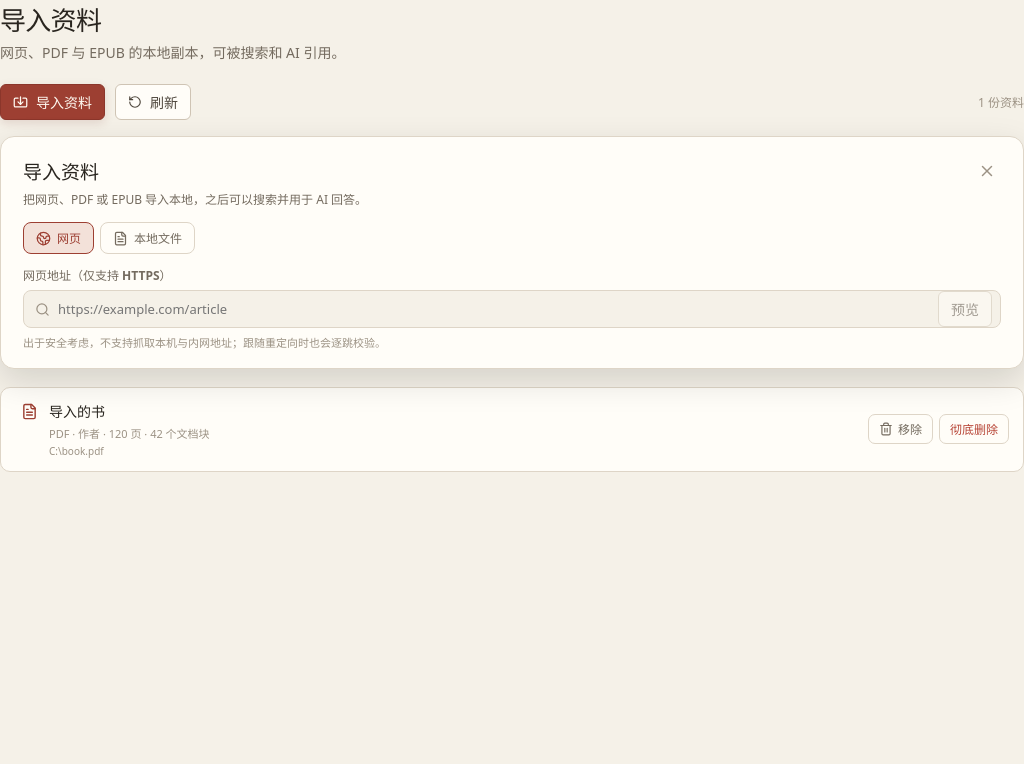
Scenario: LibrarySources › 中文与空格路径原样传给后端
Click the button "导入资料" at (52, 102), box [0, 84, 105, 120]
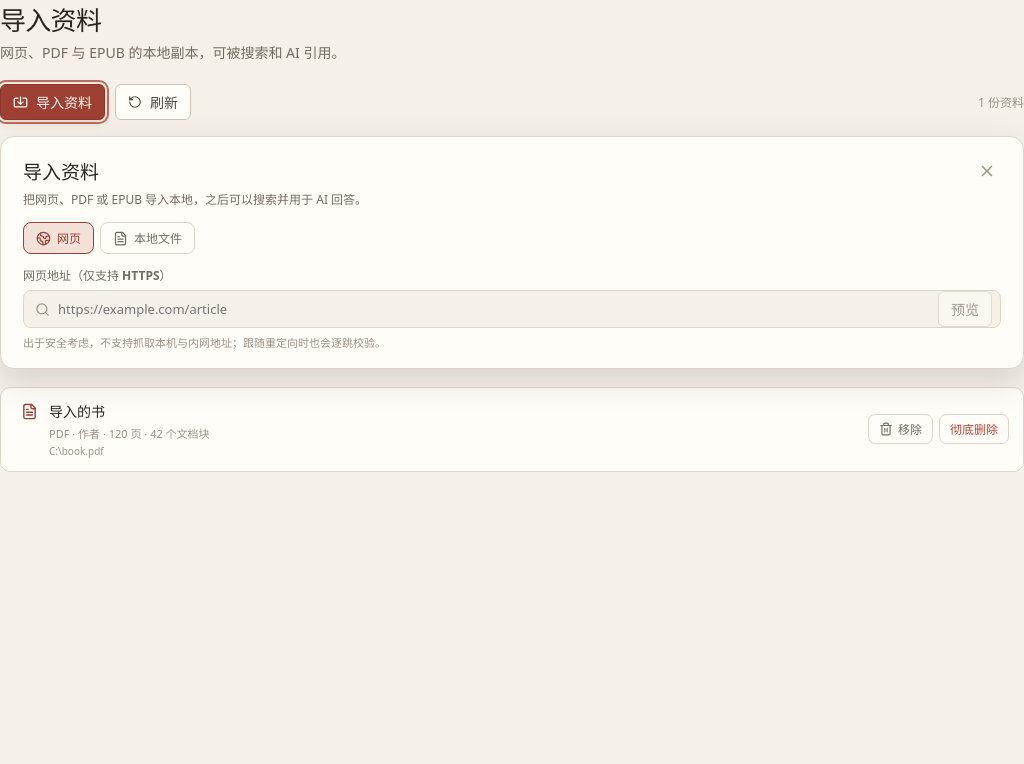
Click the tab "本地文件" at (148, 238), box [100, 222, 195, 254]
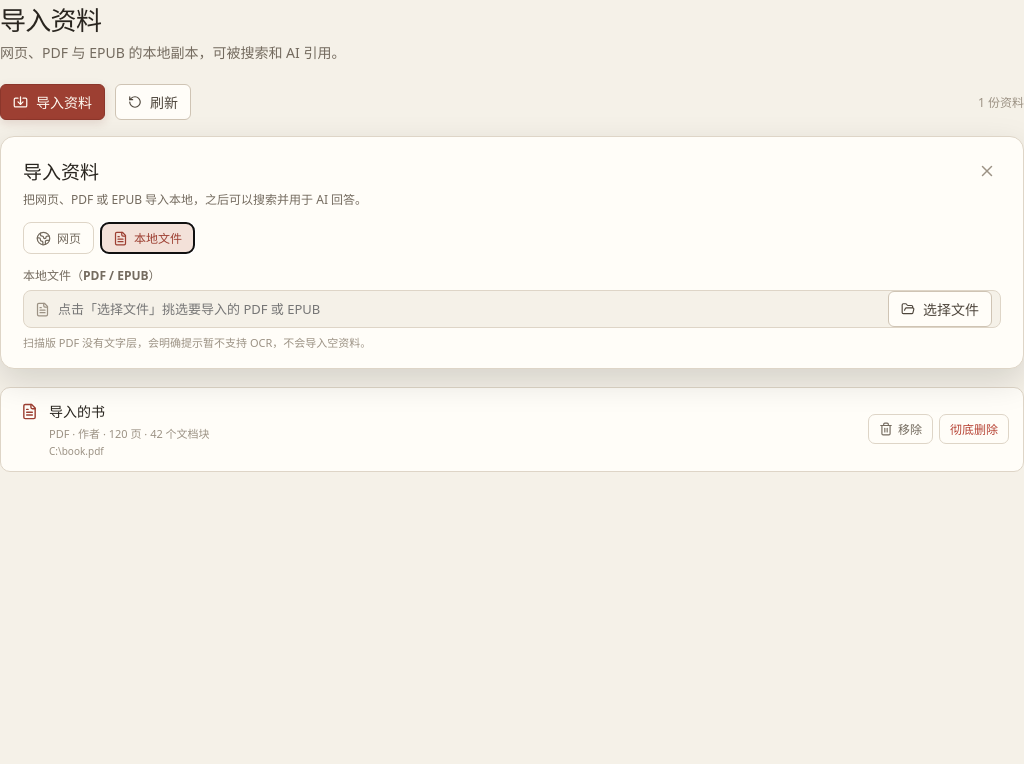
Click the button "选择文件" at (940, 309), box [888, 291, 992, 327]
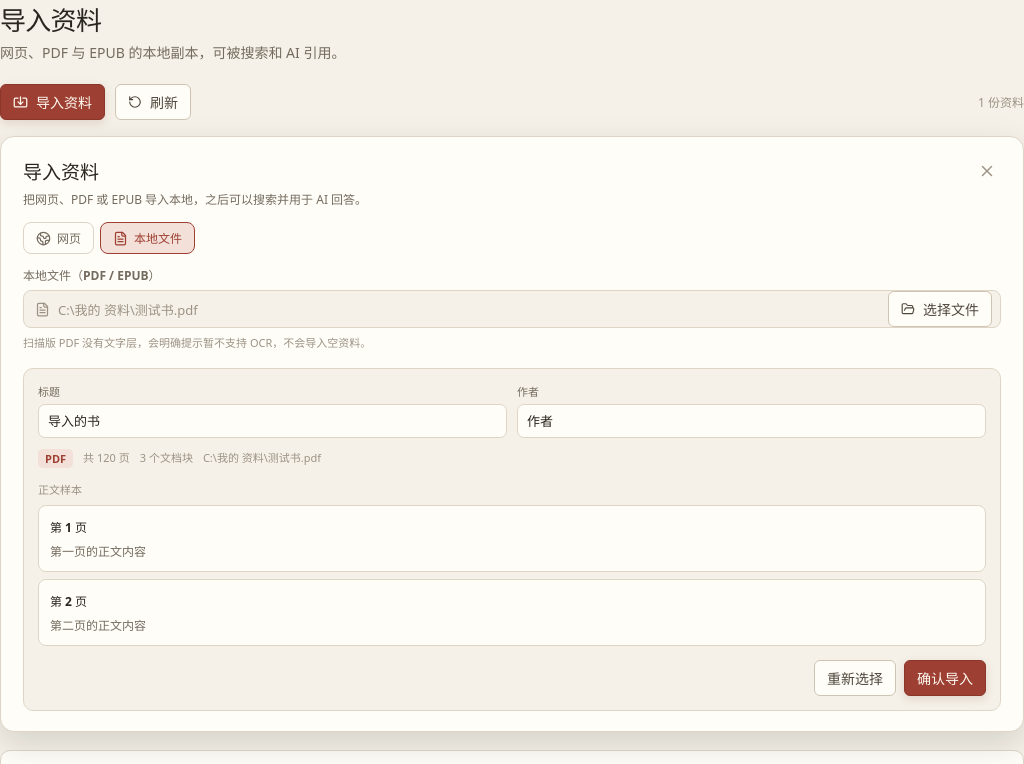
expect the field showing "C:\\我的 资料\\测试书.pdf" is shown: met, box [58, 291, 880, 327]
